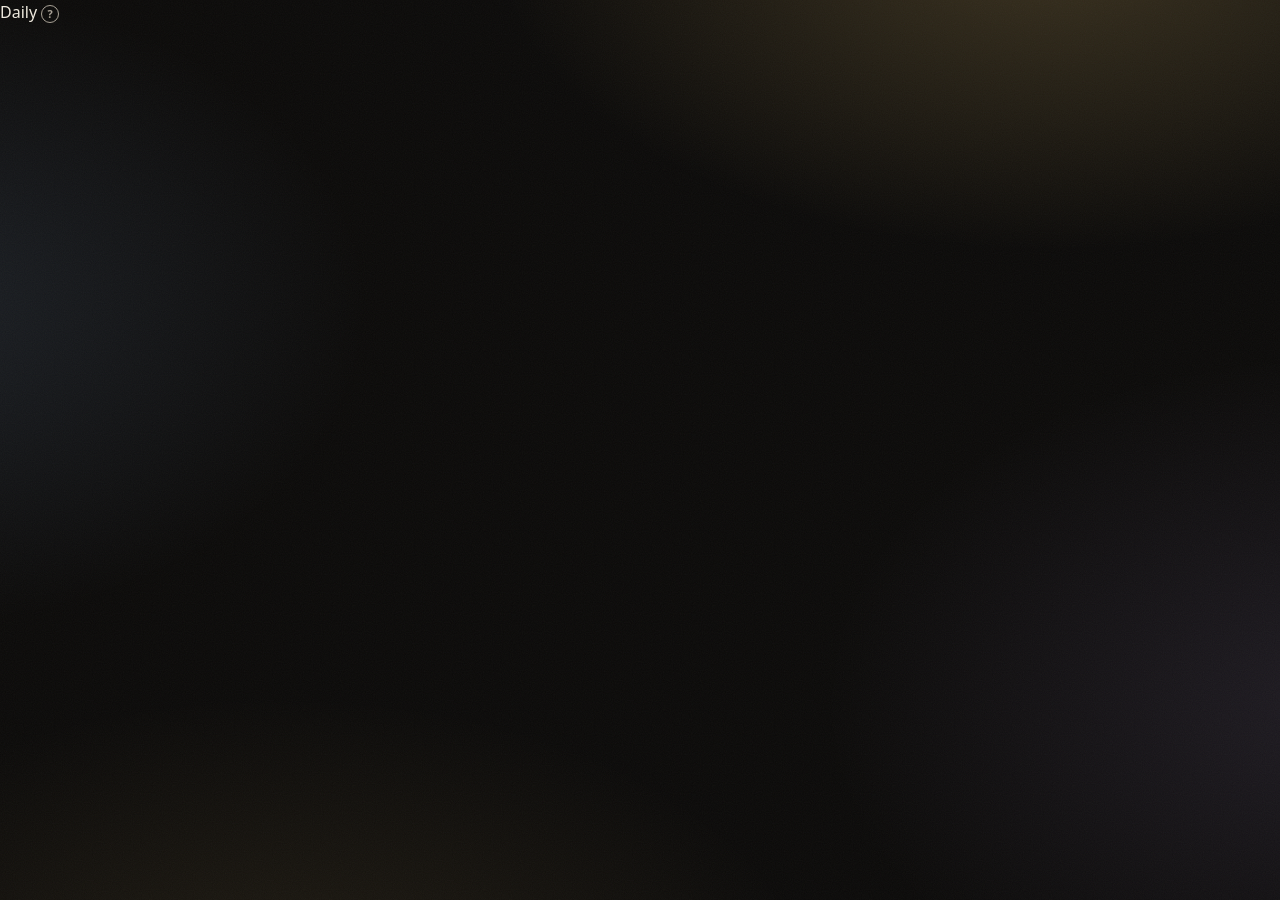
a tap on the question mark opens a plain explanation that works without a mouse
Click the button named "ATR гэж юу вэ?" at (50, 14), box [41,5,59,23]
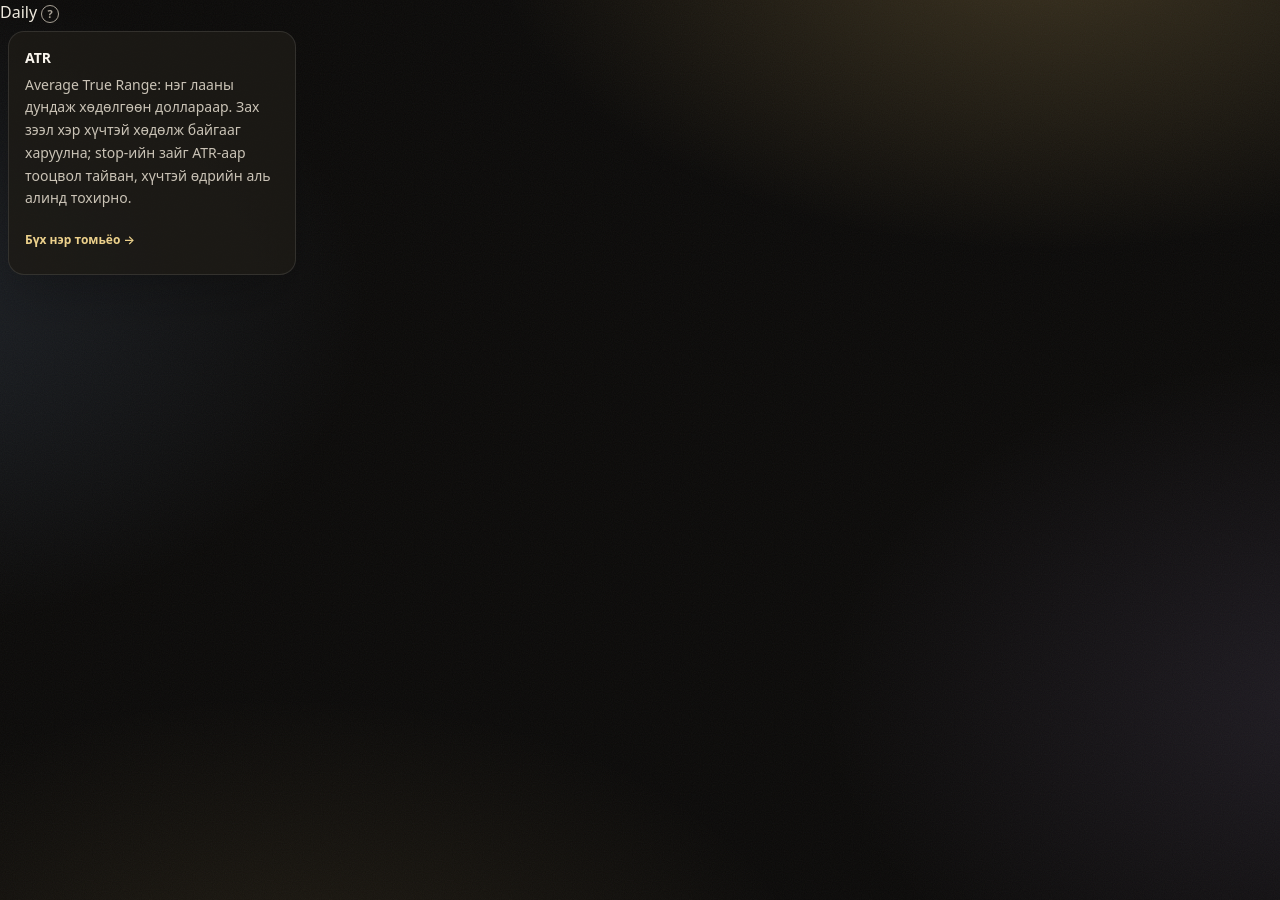
Expected: the dialog "ATR" shows "дундаж хөдөлгөөн", [25,75,271,208]
